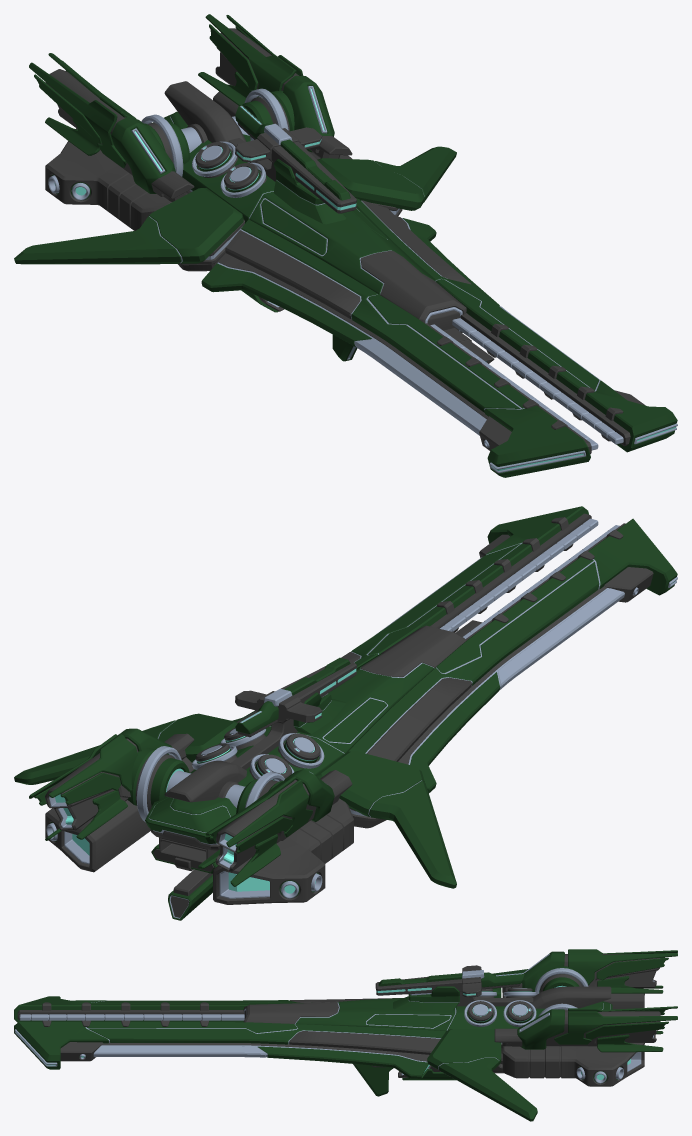
3 views of the same model, one above another, from view 1: azimuth 30°, elevation 25°; view 2: azimuth 150°, elevation 25°; view 3: azimuth 270°, elevation 25° (orthographic). The views are drawn at different scales.
Visible parts, largest first — view 1: Cube; view 2: Cube; view 3: Cube.
Part boxes in pixels (left/top/right/bottom): Cube: left=14, top=14, right=677, bottom=477; Cube: left=14, top=506, right=677, bottom=920; Cube: left=14, top=949, right=677, bottom=1121.
Bounding box in the file's own units: 1783 × 693 × 3369.
